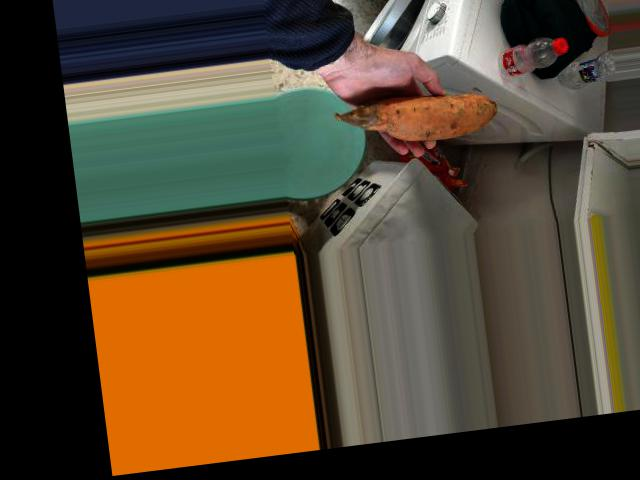sweet_potato: (340, 82, 499, 150)
